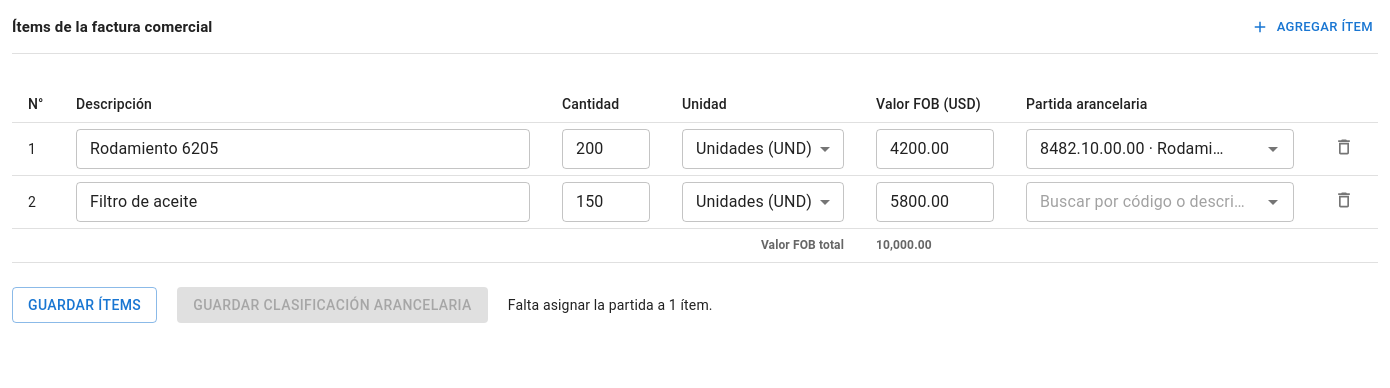
Test: ClasificacionDespacho (HU-07) › con documentos obligatorios pendientes (409 de HU-06) remite a la pestaña Documentos
Type "filtro" into the dropdown named "Partida arancelaria del ítem 2".
click(1144, 202); type("filtro")  # box 1032,188 -> 1255,216
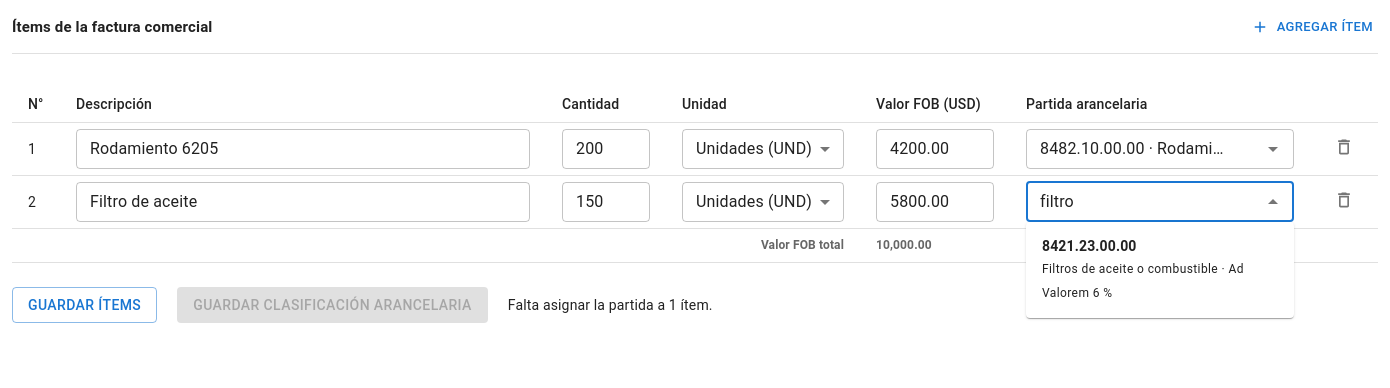
Click the option "8421.23.00.00".
click(1143, 269)  # box 1042,238 -> 1244,300
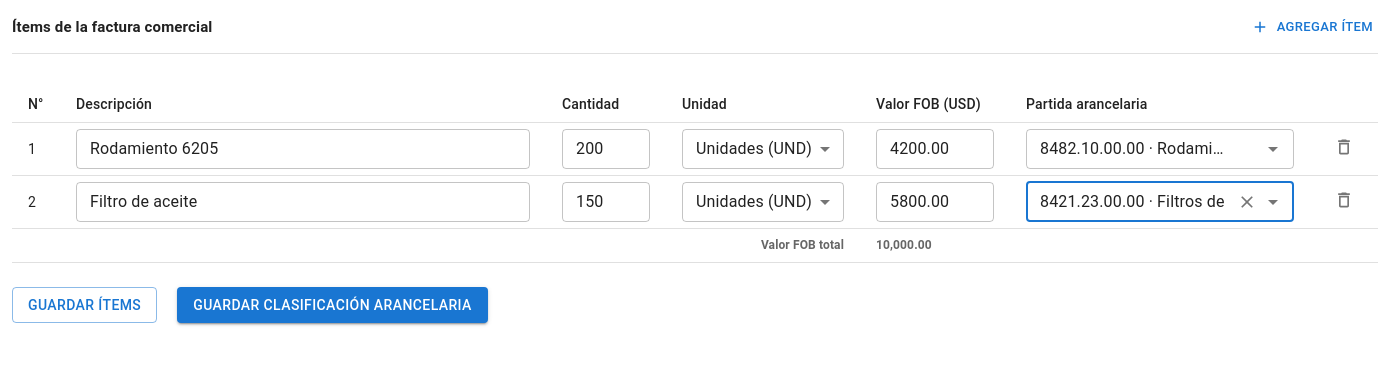
Click the button "Guardar clasificación arancelaria".
click(332, 305)  # box 177,287 -> 488,323
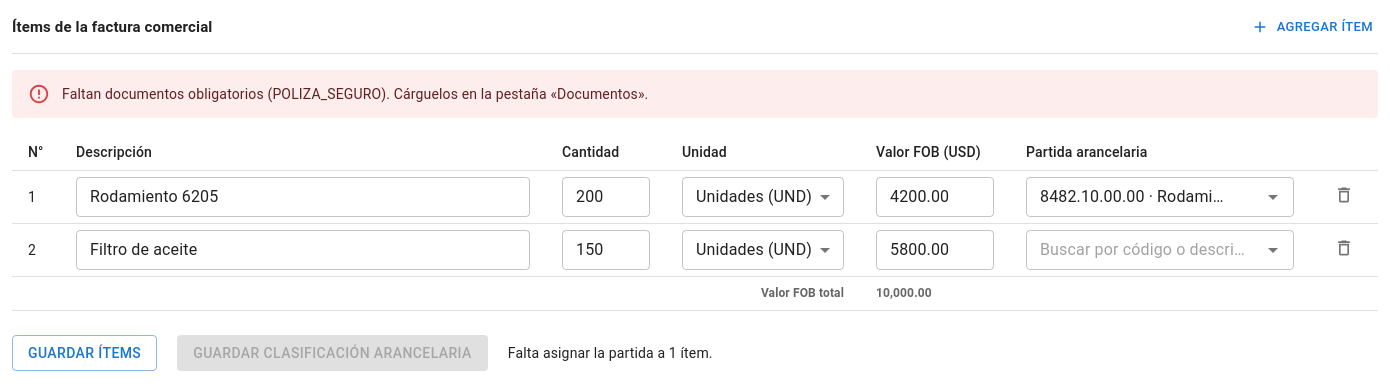
Check: the text "Faltan documentos obligatorios (POLIZA_SEGURO)" is shown, box 62,86 -> 648,102
